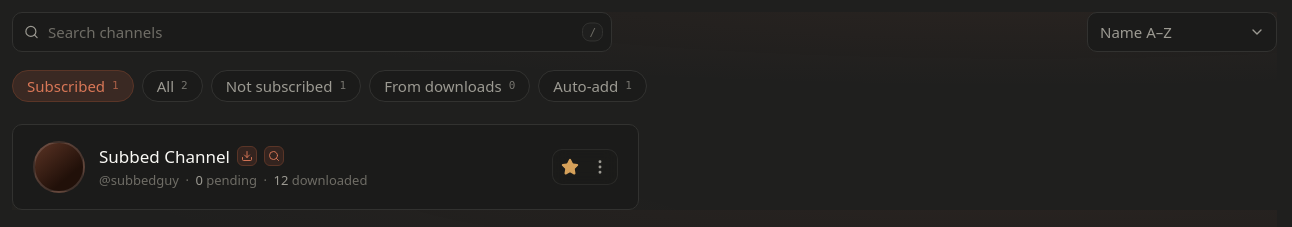
it: Channels › lists both not-subscribed and subscribed channels
The width and height of the screenshot is (1292, 227).
Step 1. Click the button "All 2" → click(172, 86), box [142,70,203,102]
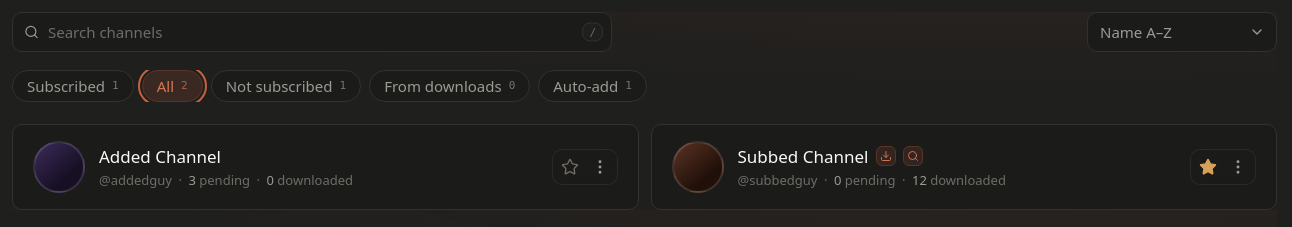
Expected: the heading "Subbed Channel" is shown, [738,144,868,169]
Expected: the heading "Added Channel" is shown, [99,144,221,169]
